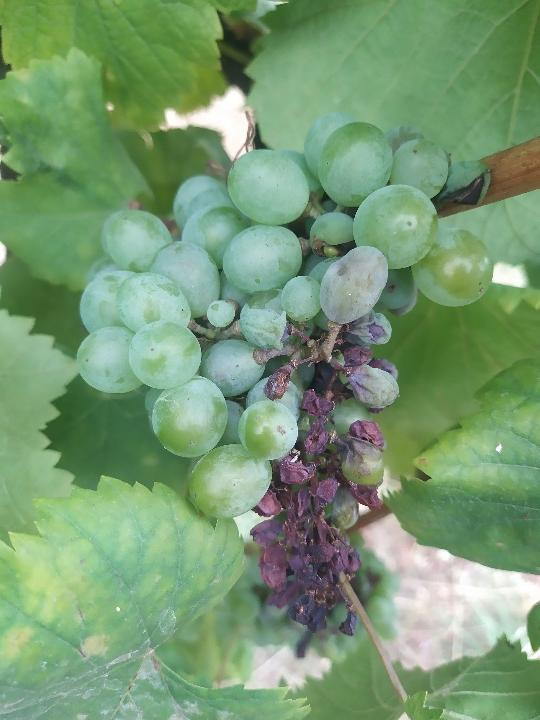grape: (71, 109, 495, 637)
